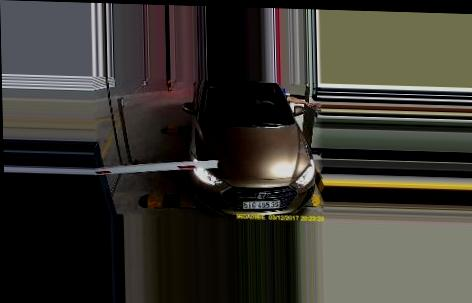License_Plate: (238, 196, 282, 211)
